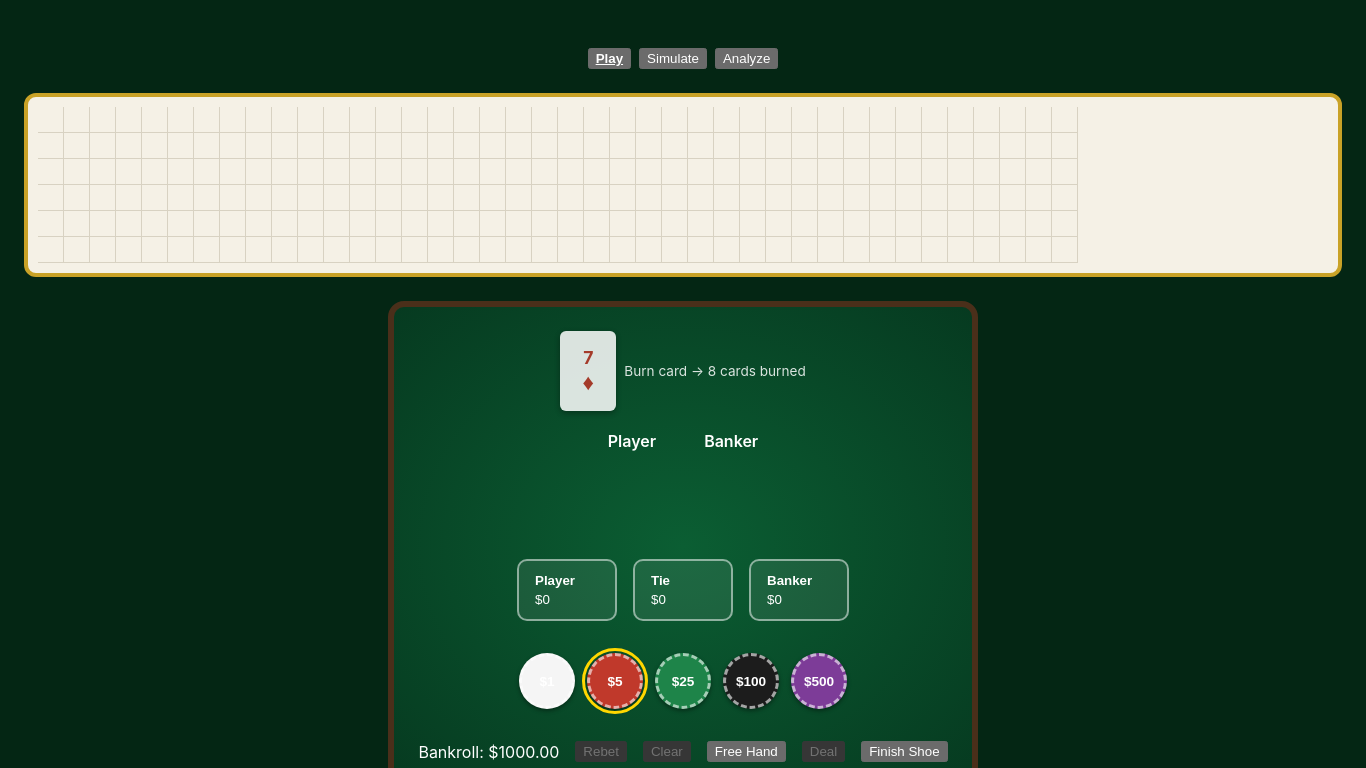
Test: App › sends the current board to the Analyze tab when Analyze Big Road is clicked
The width and height of the screenshot is (1366, 768).
Expected: the text "Analyze Big Road" is not shown
Click the button with test id "chip-25" at (683, 681), box x1=655 y1=653 x2=711 y2=709
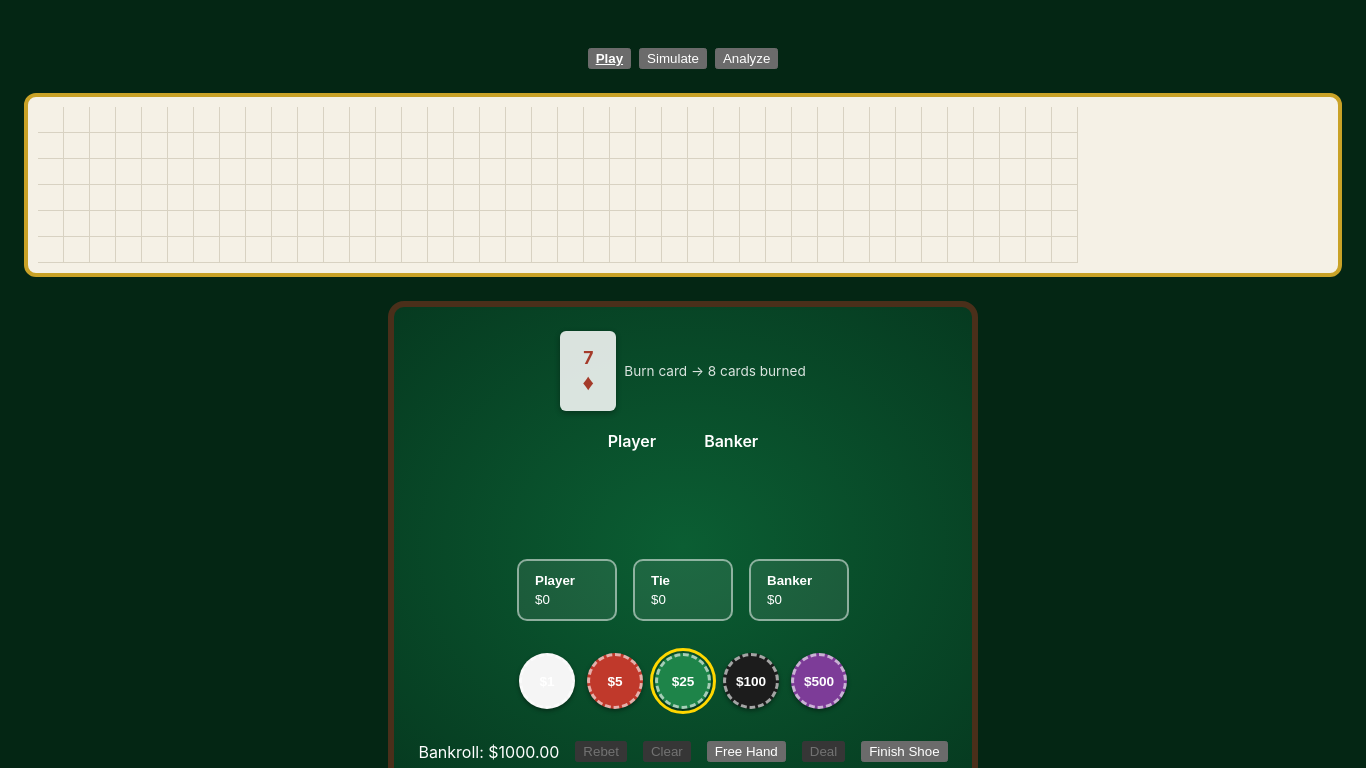
Click the button with test id "bet-spot-player" at (567, 590), box x1=517 y1=559 x2=617 y2=621
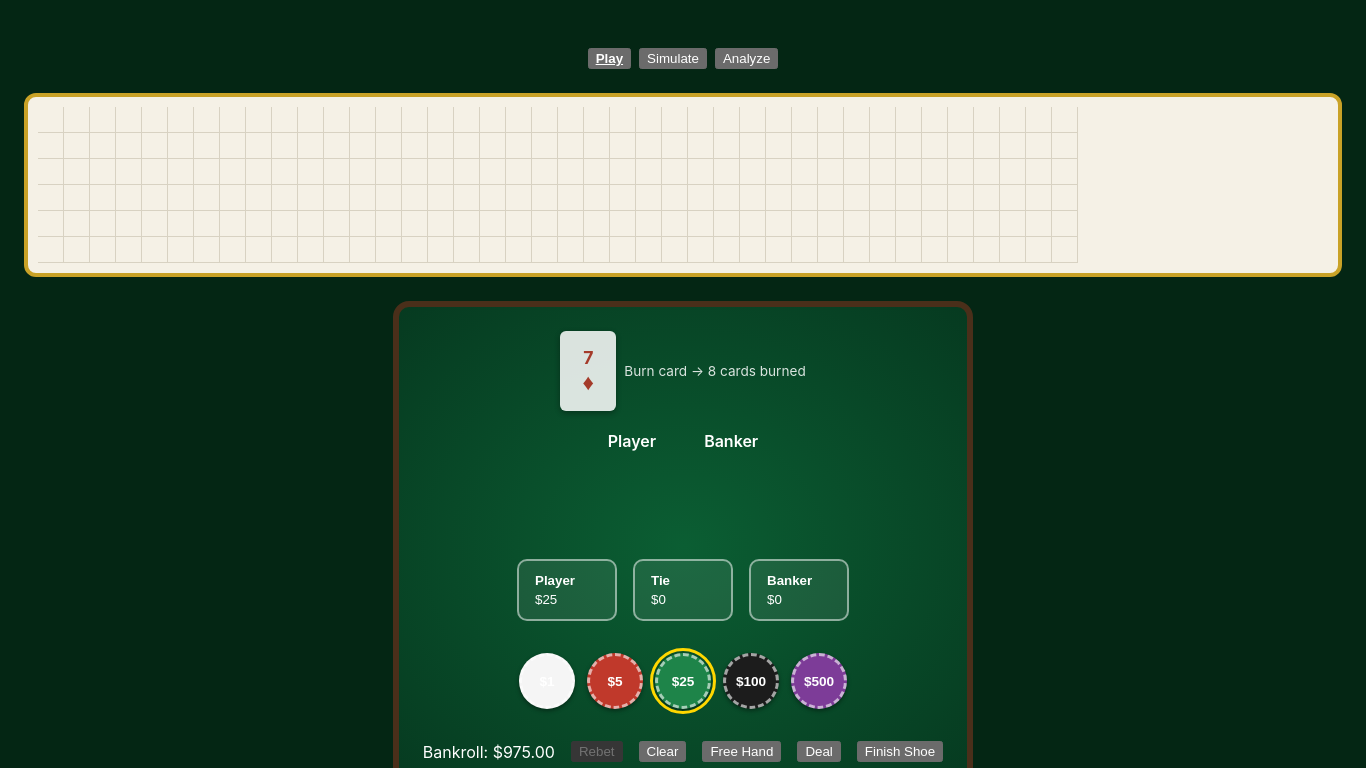
Result: the text "Bankroll: $975.00" is shown at x1=423 y1=742 x2=555 y2=762
Click the button "Deal" at (819, 752), box x1=797 y1=741 x2=841 y2=762
(page scrolled)
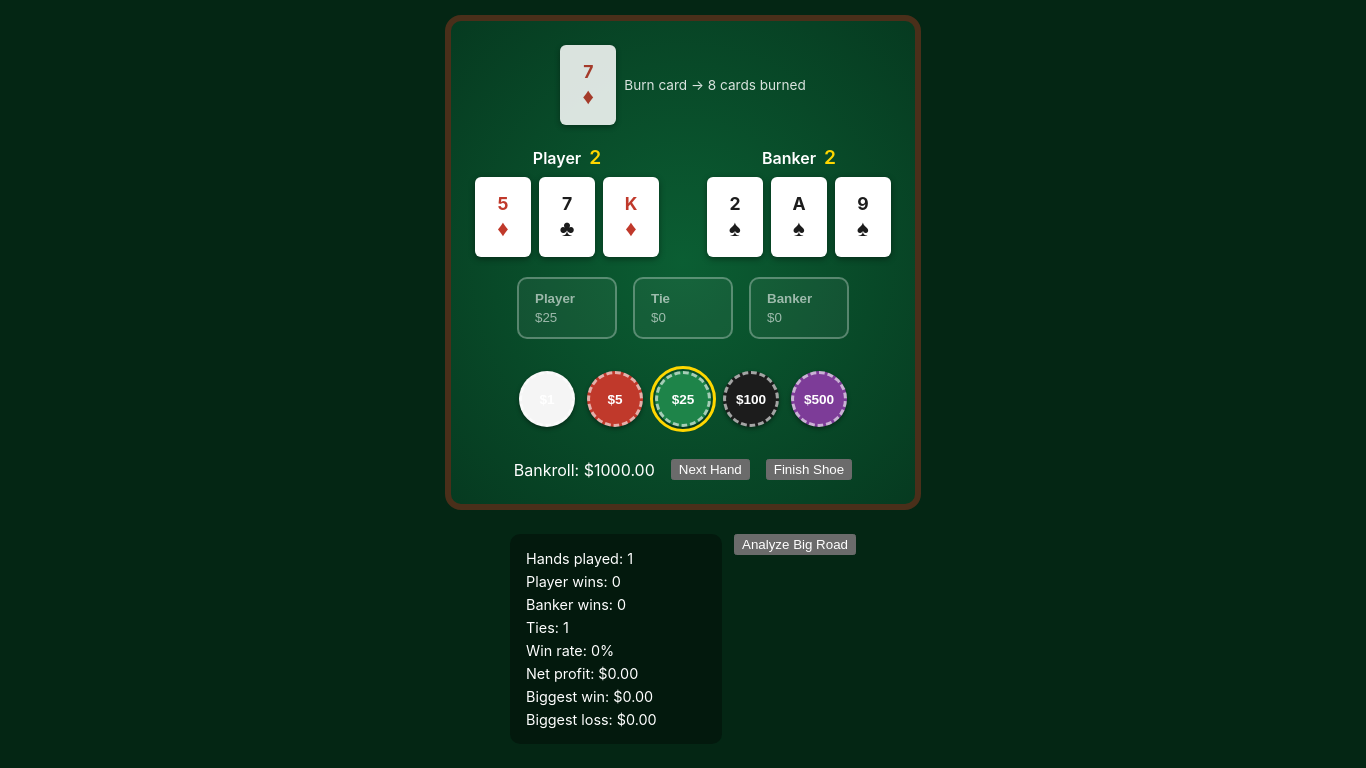
Result: the button "Analyze Big Road" is shown
Click the button "Analyze Big Road" at (795, 544), box x1=734 y1=534 x2=856 y2=555
(page scrolled)
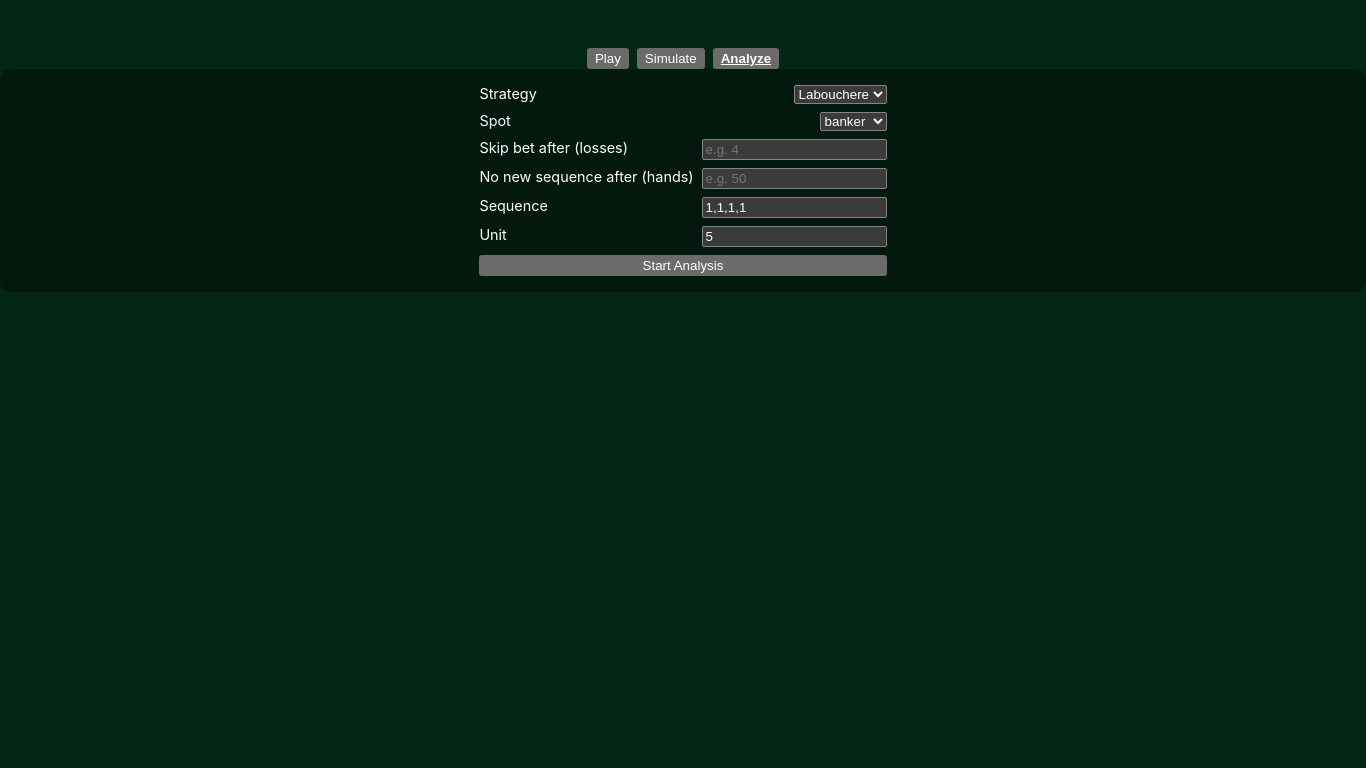
Result: the element with test id "analyze-panel" is shown at x1=0 y1=69 x2=1365 y2=292
